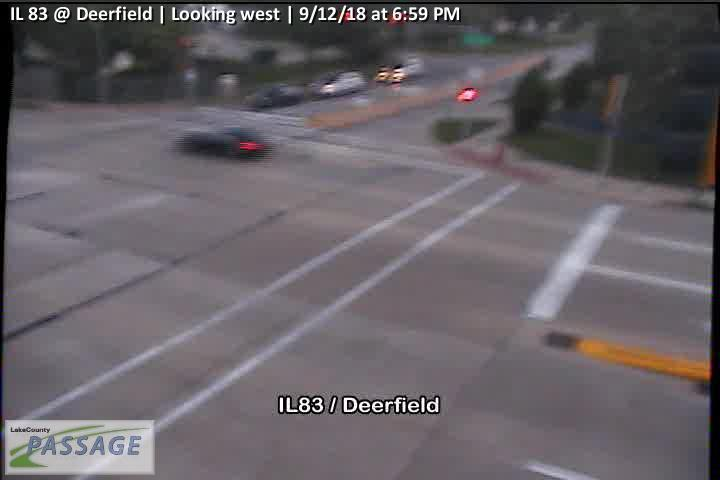SUV: (314, 69, 366, 100)
Sedan: (174, 129, 275, 162), (243, 82, 306, 110)
